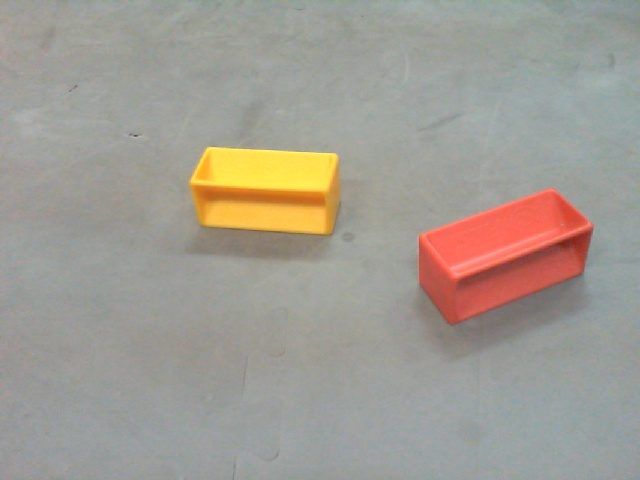RedSample: (417, 187, 594, 324)
YellowSample: (190, 148, 346, 239)
